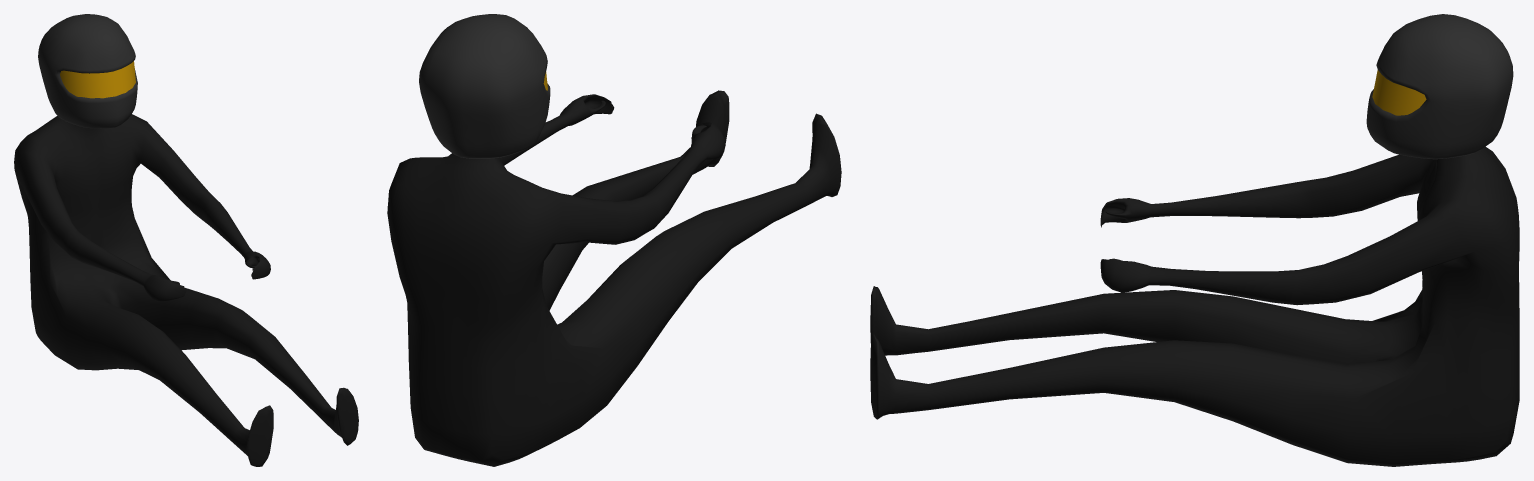
Rendered from driver.glb.
3 renders of one model, left to right at view 1: azimuth 30°, elevation 25°; view 2: azimuth 150°, elevation 25°; view 3: azimuth 270°, elevation 25°, orthographic. The views are drawn at different scales.
Visible parts, largest first — view 1: pCube15_Pilote_0, pCube18_Casque_0, object 3; view 2: pCube15_Pilote_0, pCube18_Casque_0; view 3: pCube15_Pilote_0, pCube18_Casque_0, object 3.
Part boxes in pixels (x1,y1,x2,y2): pCube15_Pilote_0: (14,114,358,466); pCube18_Casque_0: (38,14,137,128); object 3: (60,61,135,98); pCube15_Pilote_0: (387,90,841,466); pCube18_Casque_0: (419,14,550,158); pCube15_Pilote_0: (870,146,1519,466); pCube18_Casque_0: (1366,14,1513,159); object 3: (1372,70,1426,115).
Bounding box in the file's own units: 0.289 × 0.568 × 0.7991.
